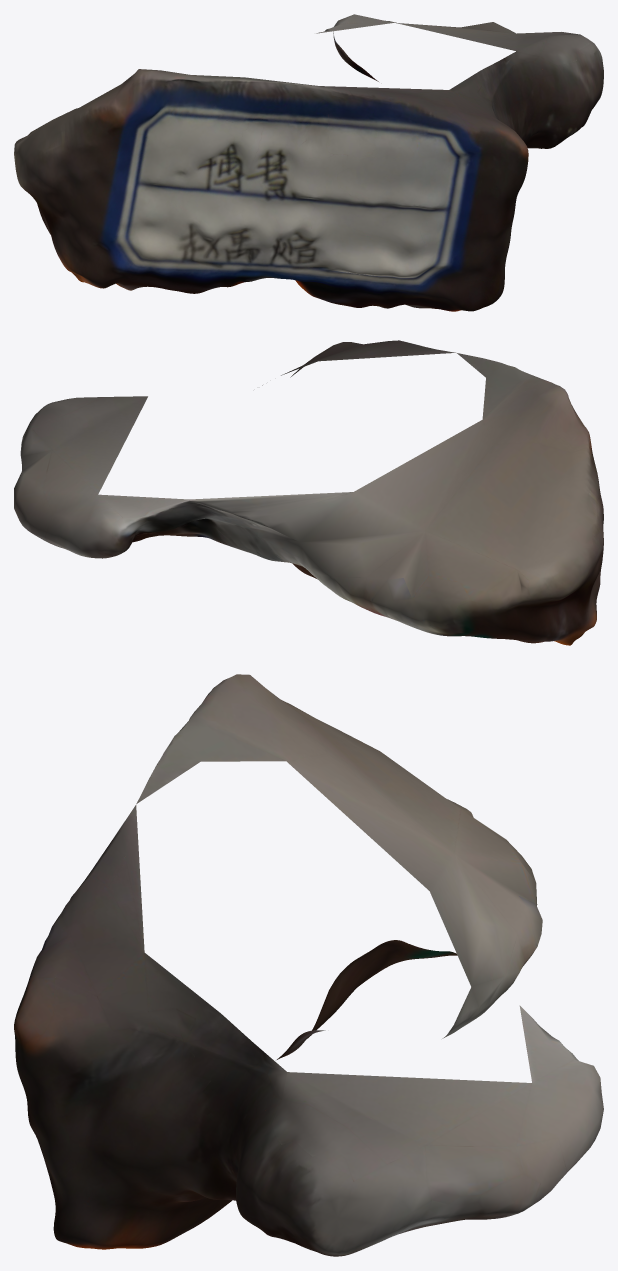
The picture shows the model from 3 angles, top to bottom: view 1: azimuth 30°, elevation 25°; view 2: azimuth 150°, elevation 25°; view 3: azimuth 270°, elevation 25°; orthographic projection. The views are drawn at different scales.
Size of the model in its own units: 0.9321 by 0.432 by 0.5947.
Materials: 1 (1 with a texture image).
